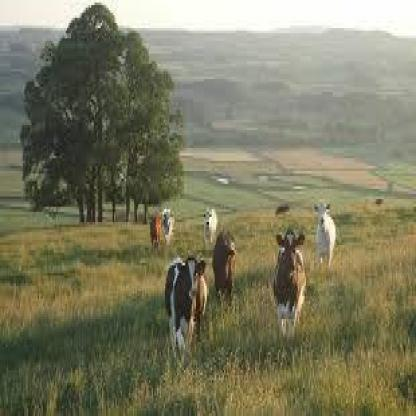cow: (165, 256, 208, 358), (272, 226, 306, 341), (212, 228, 236, 305), (314, 199, 335, 268), (202, 206, 218, 252), (161, 204, 174, 245), (150, 212, 160, 247)
